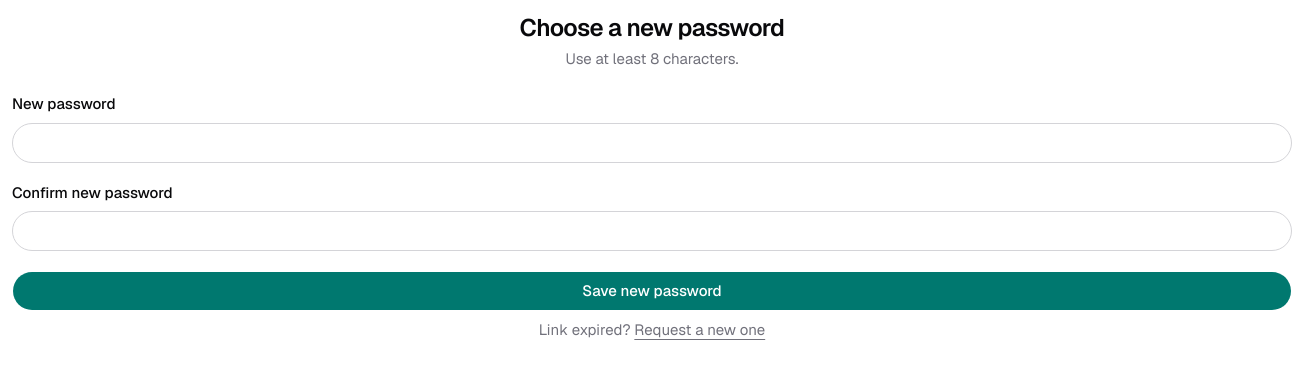
Test: ResetPasswordForm › requires matching passwords
The image size is (1304, 387).
Type "new-password" into the password field labelled "New password" at (652,143), box [12, 123, 1292, 163]
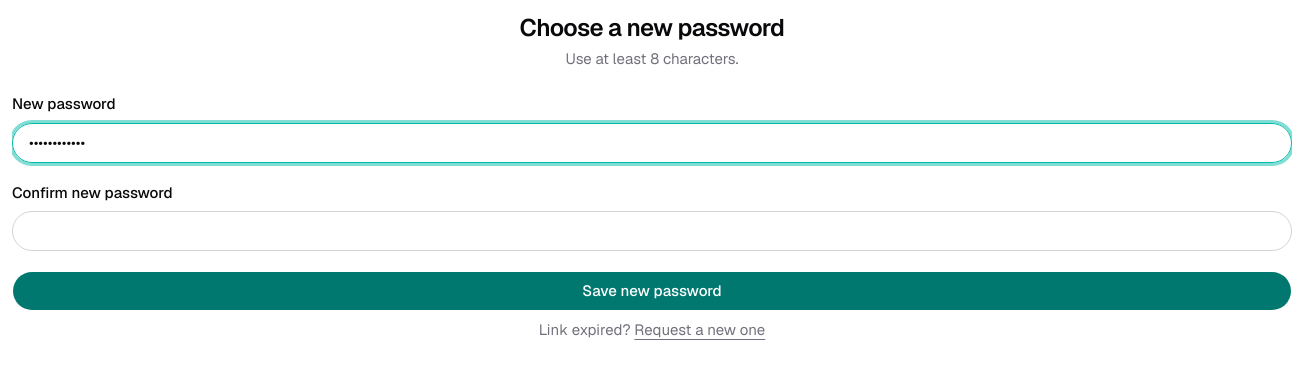
Type "different" into the password field labelled "Confirm new password" at (652,231), box [12, 211, 1292, 251]
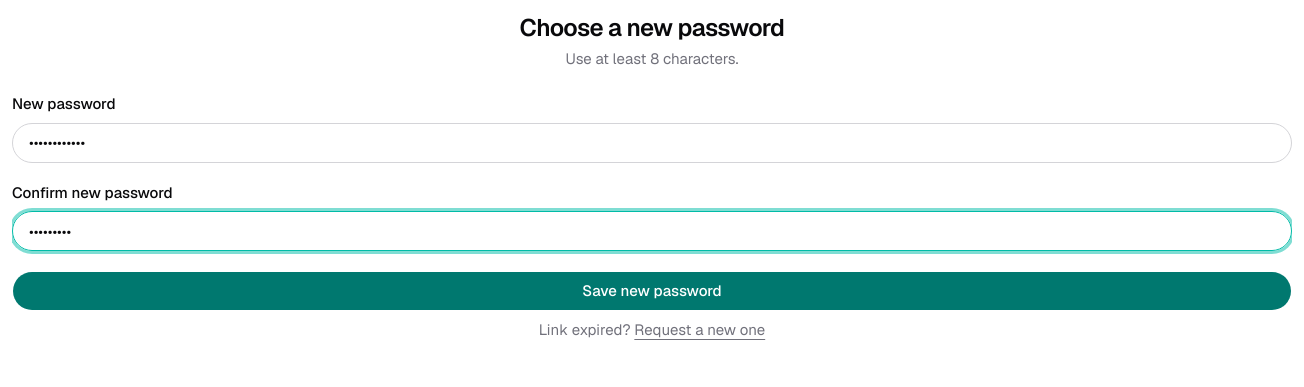
Click the button "Save new password" at (652,291), box [12, 271, 1292, 311]
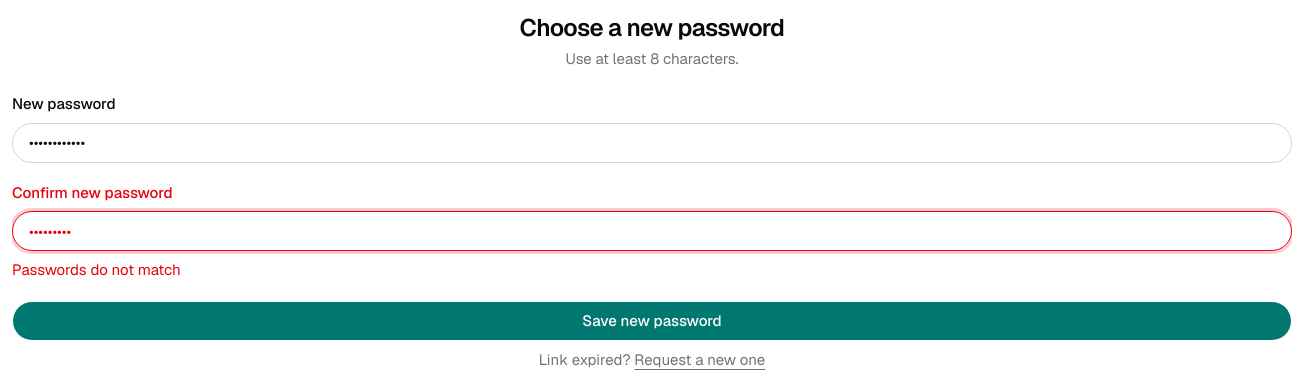
Expected: the text "Passwords do not match" is shown, [12, 260, 181, 279]
